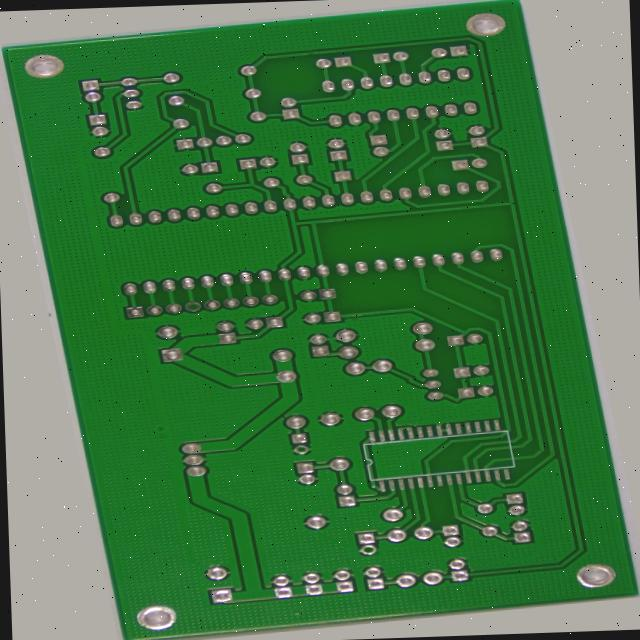missing_hole: (311, 558, 338, 571), (255, 448, 280, 461), (160, 291, 182, 304)
